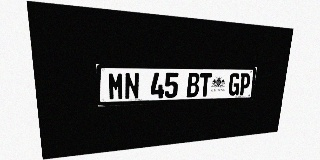4: (151, 73, 165, 99)
5: (164, 73, 178, 98)
B: (186, 73, 200, 97)
G: (228, 73, 241, 96)
M: (108, 72, 124, 100)
N: (124, 72, 139, 100)
P: (239, 73, 251, 95)
T: (199, 73, 212, 97)
